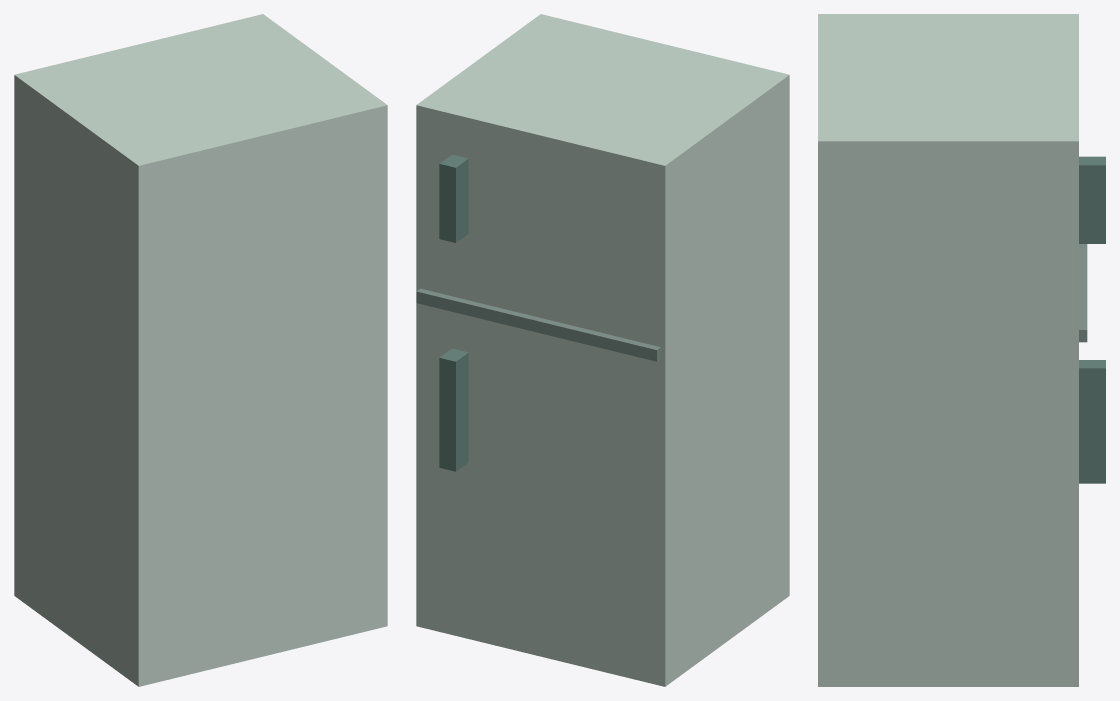
Rendered from refrigerator.glb.
3 views of the same model, side by side, from view 1: azimuth 30°, elevation 25°; view 2: azimuth 150°, elevation 25°; view 3: azimuth 270°, elevation 25° (orthographic). The views are drawn at different scales.
Parts seen in each view (by area): view 1: _MeshInstance3D_385; view 2: _MeshInstance3D_385, _MeshInstance3D_388, _MeshInstance3D_389, _MeshInstance3D_390; view 3: _MeshInstance3D_385, _MeshInstance3D_389, _MeshInstance3D_390, _MeshInstance3D_388.
Part boxes in pixels (bbox=[...]): _MeshInstance3D_385: bbox=[14, 14, 387, 686]; _MeshInstance3D_385: bbox=[416, 14, 789, 686]; _MeshInstance3D_388: bbox=[416, 288, 660, 361]; _MeshInstance3D_389: bbox=[439, 348, 468, 471]; _MeshInstance3D_390: bbox=[439, 154, 468, 242]; _MeshInstance3D_385: bbox=[818, 14, 1078, 686]; _MeshInstance3D_389: bbox=[1079, 360, 1105, 483]; _MeshInstance3D_390: bbox=[1079, 156, 1105, 243]; _MeshInstance3D_388: bbox=[1079, 244, 1087, 342].
Size of the model in its own units: 0.9 by 1.8 by 0.86.
